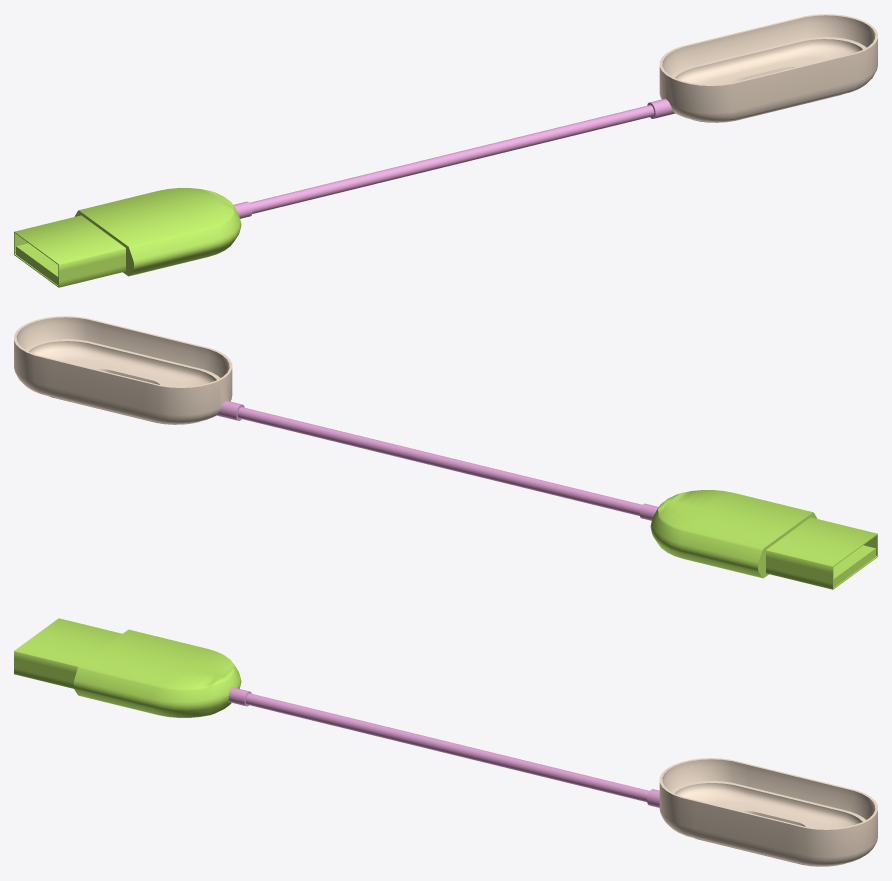
The picture shows the model from 3 angles, top to bottom: view 1: azimuth 30°, elevation 25°; view 2: azimuth 150°, elevation 25°; view 3: azimuth 330°, elevation 25°; orthographic projection.
Parts seen in each view (by area): view 1: Object_4, Object_8, Object_6; view 2: Object_4, Object_8, Object_6; view 3: Object_4, Object_8, Object_6.
Part boxes in pixels (x1,y1,x2,y2): Object_4: (659, 14, 877, 122); Object_8: (14, 188, 241, 287); Object_6: (233, 99, 675, 218); Object_4: (14, 316, 232, 424); Object_8: (650, 490, 877, 589); Object_6: (216, 401, 658, 520); Object_4: (659, 758, 877, 866); Object_8: (14, 618, 241, 717); Object_6: (228, 687, 659, 807).
Size of the model in its own units: 1 by 0.0525 by 0.1259.
